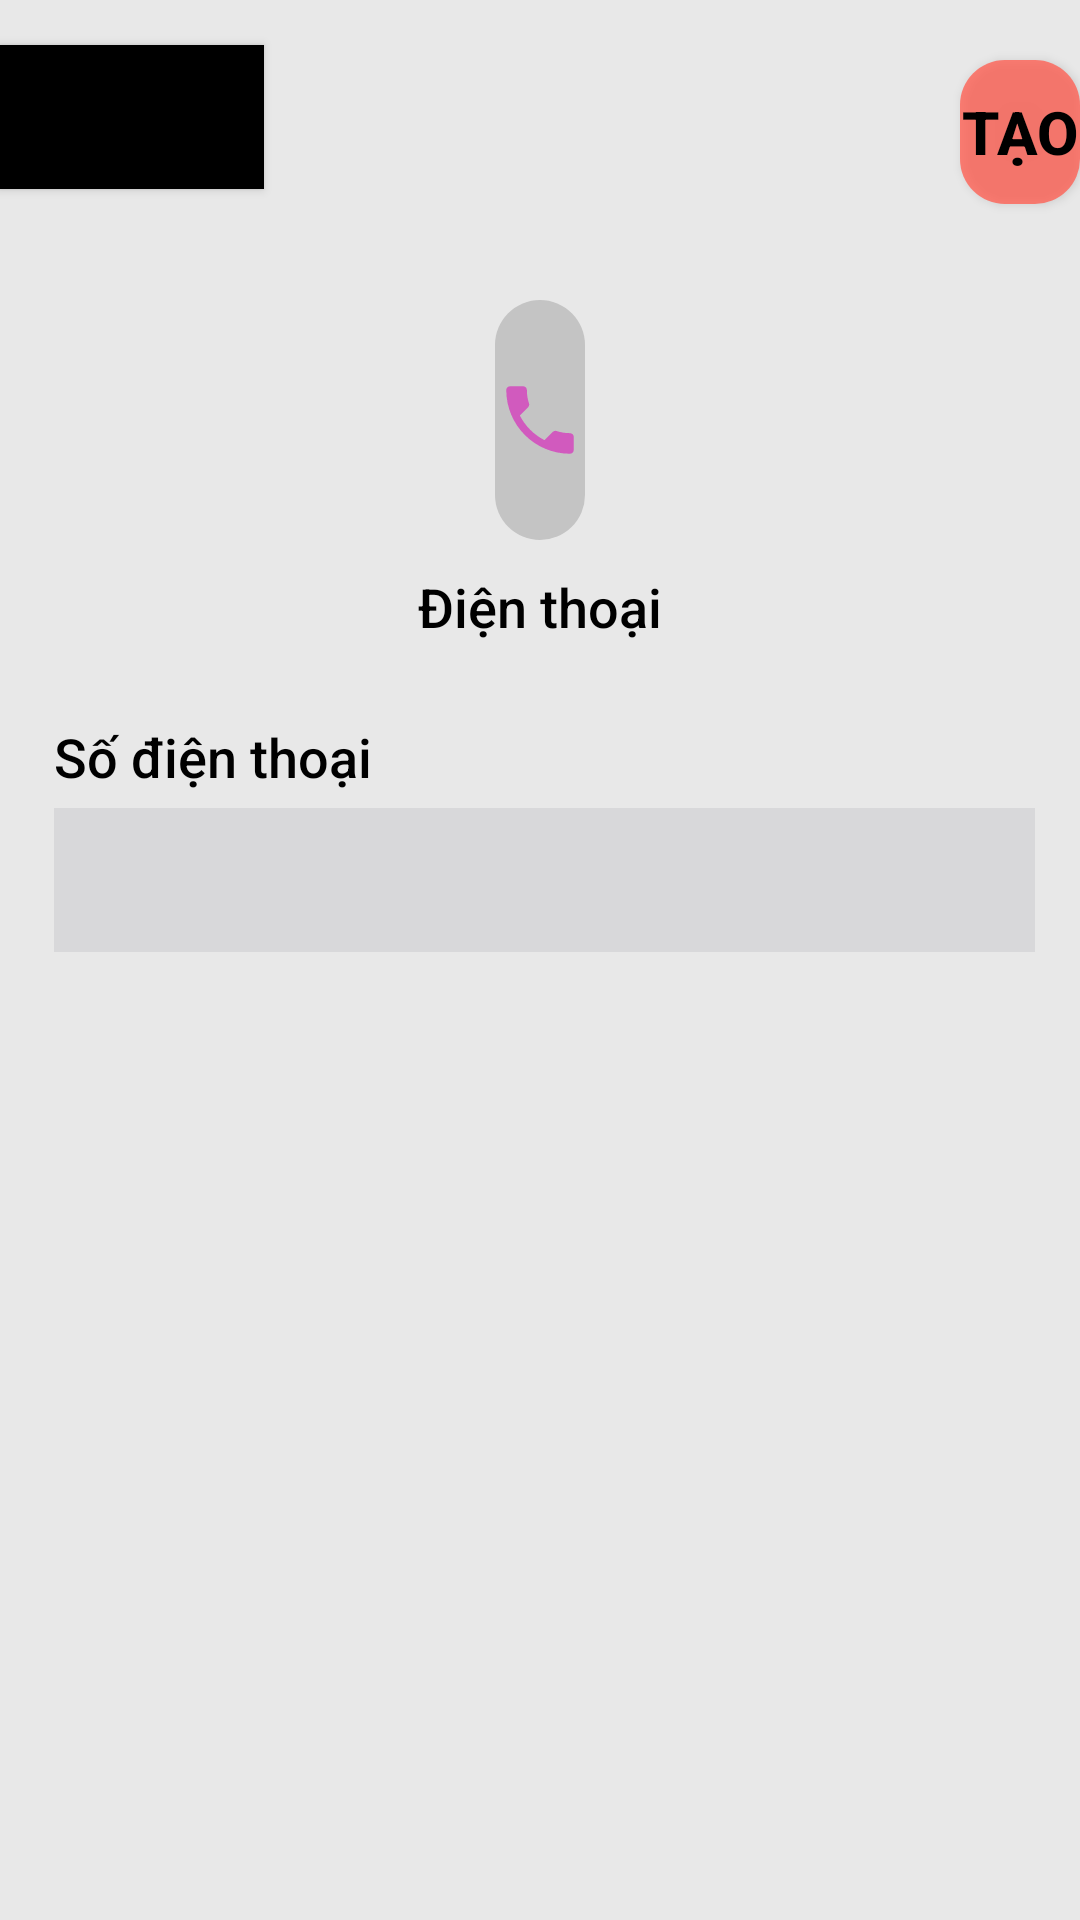

Where icons sit on this 1080px x 1920px app screen, as (left=x1, top=y1, right=x2, bottom=y2):
phone: (left=506, top=386, right=574, bottom=454)
